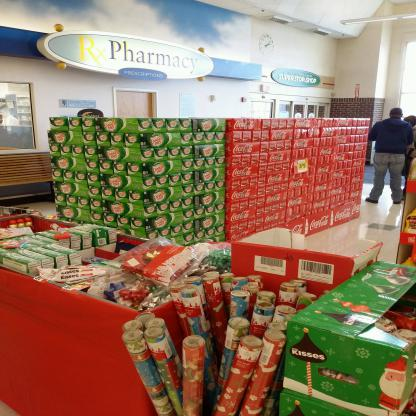Void: (407, 193, 416, 212), (402, 245, 408, 257)
